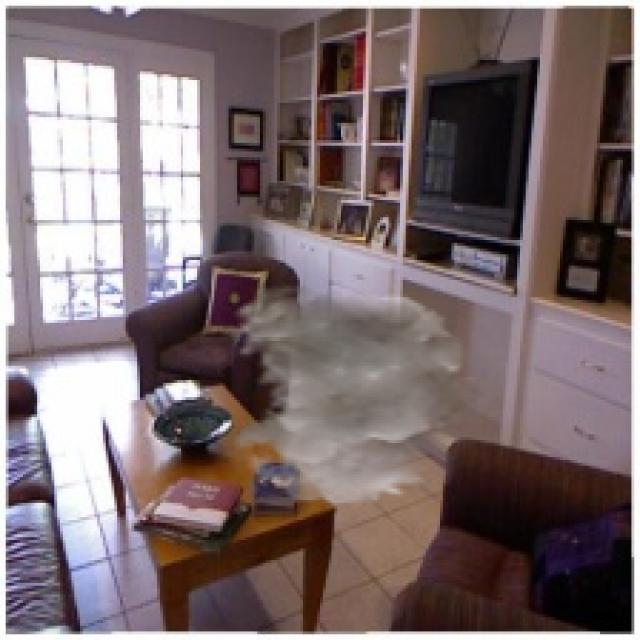Smoke: (226, 283, 497, 506)
